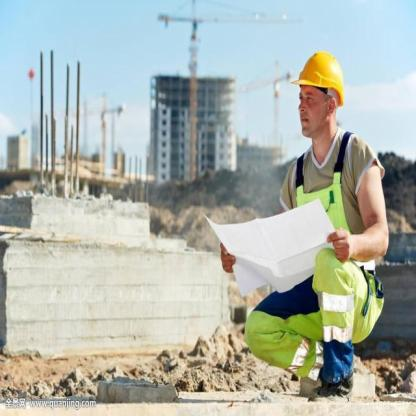person: (222, 43, 388, 396)
vest-helm: (268, 176, 381, 362)
yellow-helm: (290, 47, 350, 114)
